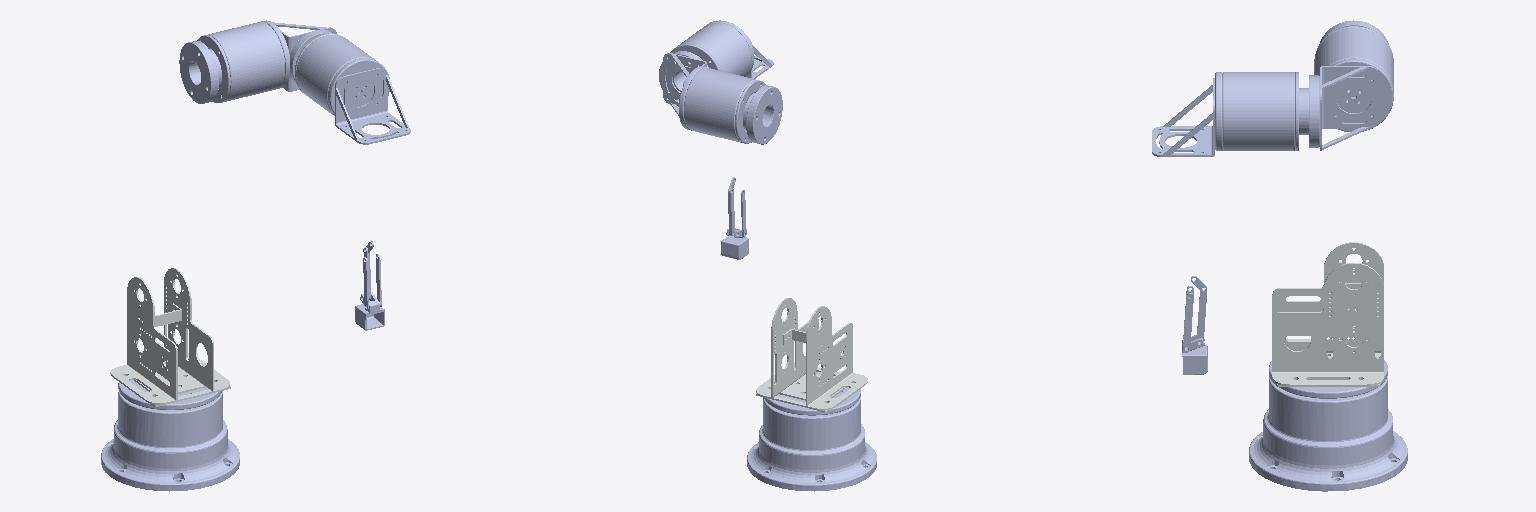
robot.urdf — rover_arm_urdf_pkg:
<?xml version="1.0" encoding="utf-8"?>
<!-- This URDF was automatically created by SolidWorks to URDF Exporter! Originally created by [author] ([email redacted]) 
     Commit Version: 1.6.0-4-g7f85cfe  Build Version: 1.6.7995.38578
     For more information, please see http://wiki.ros.org/sw_urdf_exporter -->
<robot
  name="rover_arm_urdf_pkg">
  <link name="world"/>
  <joint name="base_joint" type="fixed">
      <parent link="world"/>
      <child link="base_link"/>
      <origin rpy="0 0 0" xyz="0.0 0.0 0.00001"/>
  </joint>
  <link
    name="base_link">
    <inertial>
      <origin
        xyz="-2.2814E-16 7.12E-17 0.064877"
        rpy="0 0 0" />
      <mass
        value="2.1128" />
      <inertia
        ixx="0.0074562"
        ixy="1.72E-06"
        ixz="-1.7996E-17"
        iyy="0.0074583"
        iyz="-1.4355E-17"
        izz="0.010214" />
    </inertial>
    <visual>
      <origin
        xyz="0 0 0"
        rpy="0 0 0" />
      <geometry>
        <mesh
          filename="package://rover_arm_urdf_pkg/meshes/base_link.STL" />
      </geometry>
      <material
        name="">
        <color
          rgba="0.79216 0.81961 0.93333 1" />
      </material>
    </visual>
    <collision>
      <origin
        xyz="0 0 0"
        rpy="0 0 0" />
      <geometry>
        <mesh
          filename="package://rover_arm_urdf_pkg/meshes/base_link.STL" />
      </geometry>
    </collision>
  </link>
  <link
    name="link_1">
    <inertial>
      <origin
        xyz="-0.00064135 0.0059228 0.051415"
        rpy="0 0 0" />
      <mass
        value="0.49072" />
      <inertia
        ixx="0.001755"
        ixy="3.1435E-07"
        ixz="7.1879E-07"
        iyy="0.0010881"
        iyz="-0.00019759"
        izz="0.001162" />
    </inertial>
    <visual>
      <origin
        xyz="0 0 0"
        rpy="0 0 0" />
      <geometry>
        <mesh
          filename="package://rover_arm_urdf_pkg/meshes/link_1.STL" />
      </geometry>
      <material
        name="">
        <color
          rgba="0.89804 0.91765 0.92941 1" />
      </material>
    </visual>
    <collision>
      <origin
        xyz="0 0 0"
        rpy="0 0 0" />
      <geometry>
        <mesh
          filename="package://rover_arm_urdf_pkg/meshes/link_1.STL" />
      </geometry>
    </collision>
  </link>
  <joint
    name="joint_1"
    type="revolute">
    <origin
      xyz="0 0 0.133"
      rpy="0 0 0" />
    <parent
      link="base_link" />
    <child
      link="link_1" />
    <axis
      xyz="0 0 1" />
    <limit
      lower="-3.142"
      upper="3.142"
      effort="100"
      velocity="2" />
  </joint>
  <link
    name="link_2">
    <inertial>
      <origin
        xyz="-3.148E-06 0.2843 0.0099169"
        rpy="0 0 0" />
      <mass
        value="1.1101" />
      <inertia
        ixx="0.0026516"
        ixy="-1.2212E-07"
        ixz="-1.1353E-07"
        iyy="0.0012227"
        iyz="-0.00020306"
        izz="0.0025953" />
    </inertial>
    <visual>
      <origin
        xyz="0 0 0"
        rpy="0 0 0" />
      <geometry>
        <mesh
          filename="package://rover_arm_urdf_pkg/meshes/link_2.STL" />
      </geometry>
      <material
        name="">
        <color
          rgba="0.79216 0.81961 0.93333 1" />
      </material>
    </visual>
    <collision>
      <origin
        xyz="0 0 0"
        rpy="0 0 0" />
      <geometry>
        <mesh
          filename="package://rover_arm_urdf_pkg/meshes/link_2.STL" />
      </geometry>
    </collision>
  </link>
  <joint
    name="joint_2"
    type="revolute">
    <origin
      xyz="0 0.0355 0.1519"
      rpy="1.5708 0 1.5708" />
    <parent
      link="link_1" />
    <child
      link="link_2" />
    <axis
      xyz="0 0 1" />
    <limit
      lower="-3.142"
      upper="3.142"
      effort="100"
      velocity="2" />
  </joint>
  <link
    name="link_3">
    <inertial>
      <origin
        xyz="4.4409E-16 -0.0011125 -0.0037525"
        rpy="0 0 0" />
      <mass
        value="0.83444" />
      <inertia
        ixx="0.0013519"
        ixy="9.0993E-07"
        ixz="-3.0376E-20"
        iyy="0.0013665"
        iyz="1.2183E-05"
        izz="0.0015146" />
    </inertial>
    <visual>
      <origin
        xyz="0 0 0"
        rpy="0 0 0" />
      <geometry>
        <mesh
          filename="package://rover_arm_urdf_pkg/meshes/link_3.STL" />
      </geometry>
      <material
        name="">
        <color
          rgba="0.79216 0.81961 0.93333 1" />
      </material>
    </visual>
    <collision>
      <origin
        xyz="0 0 0"
        rpy="0 0 0" />
      <geometry>
        <mesh
          filename="package://rover_arm_urdf_pkg/meshes/link_3.STL" />
      </geometry>
    </collision>
  </link>
  <joint
    name="joint_3"
    type="revolute">
    <origin
      xyz="0 0.363 0.149"
      rpy="0 0 -1.5708" />
    <parent
      link="link_2" />
    <child
      link="link_3" />
    <axis
      xyz="0 0 -1" />
    <limit
      lower="-3.142"
      upper="3.142"
      effort="50"
      velocity="4" />
  </joint>
  <link
    name="link_4">
    <inertial>
      <origin
        xyz="-0.0011125 2.387E-15 -0.0037525"
        rpy="0 0 0" />
      <mass
        value="0.83444" />
      <inertia
        ixx="0.0013665"
        ixy="-9.0993E-07"
        ixz="1.2183E-05"
        iyy="0.0013519"
        iyz="8.7468E-20"
        izz="0.0015146" />
    </inertial>
    <visual>
      <origin
        xyz="0 0 0"
        rpy="0 0 0" />
      <geometry>
        <mesh
          filename="package://rover_arm_urdf_pkg/meshes/link_4.STL" />
      </geometry>
      <material
        name="">
        <color
          rgba="0.79216 0.81961 0.93333 1" />
      </material>
    </visual>
    <collision>
      <origin
        xyz="0 0 0"
        rpy="0 0 0" />
      <geometry>
        <mesh
          filename="package://rover_arm_urdf_pkg/meshes/link_4.STL" />
      </geometry>
    </collision>
  </link>
  <joint
    name="joint_4"
    type="revolute">
    <origin
      xyz="0 -0.13161 0.10761"
      rpy="-1.5708 0 -3.1416" />
    <parent
      link="link_3" />
    <child
      link="link_4" />
    <axis
      xyz="0 0 -1" />
    <limit
      lower="-3.142"
      upper="3.142"
      effort="50"
      velocity="4" />
  </joint>
  <link
    name="link_5">
    <inertial>
      <origin
        xyz="-0.0056897 0.00022371 0.030611"
        rpy="0 0 0" />
      <mass
        value="1.0836" />
      <inertia
        ixx="0.001469"
        ixy="-1.5038E-06"
        ixz="-7.5505E-06"
        iyy="0.0014595"
        iyz="1.0158E-06"
        izz="0.0020478" />
    </inertial>
    <visual>
      <origin
        xyz="0 0 0"
        rpy="0 0 0" />
      <geometry>
        <mesh
          filename="package://rover_arm_urdf_pkg/meshes/link_5.STL" />
      </geometry>
      <material
        name="">
        <color
          rgba="0.79216 0.81961 0.93333 1" />
      </material>
    </visual>
    <collision>
      <origin
        xyz="0 0 0"
        rpy="0 0 0" />
      <geometry>
        <mesh
          filename="package://rover_arm_urdf_pkg/meshes/link_5.STL" />
      </geometry>
    </collision>
  </link>
  <joint
    name="joint_5"
    type="revolute">
    <origin
      xyz="-0.11211 0 0.10761"
      rpy="1.5708 0 -1.5708" />
    <parent
      link="link_4" />
    <child
      link="link_5" />
    <axis
      xyz="0 0 -1" />
    <limit
      lower="-3.142"
      upper="3.142"
      effort="50"
      velocity="4" />
  </joint>
  <link
    name="Right_ee">
    <inertial>
      <origin
        xyz="-0.011163 -0.080593 0.00035566"
        rpy="0 0 0" />
      <mass
        value="0.028855" />
      <inertia
        ixx="1.2417E-05"
        ixy="3.9813E-07"
        ixz="-3.4576E-12"
        iyy="4.4005E-06"
        iyz="7.4412E-12"
        izz="1.2567E-05" />
    </inertial>
    <visual>
      <origin
        xyz="0 0 0"
        rpy="0 0 0" />
      <geometry>
        <mesh
          filename="package://rover_arm_urdf_pkg/meshes/Right_ee.STL" />
      </geometry>
      <material
        name="">
        <color
          rgba="0.79216 0.81961 0.93333 1" />
      </material>
    </visual>
    <collision>
      <origin
        xyz="0 0 0"
        rpy="0 0 0" />
      <geometry>
        <mesh
          filename="package://rover_arm_urdf_pkg/meshes/Right_ee.STL" />
      </geometry>
    <collision name="Right_ee_collision" /> </collision>
  </link>
  <joint
    name="joint_ree"
    type="revolute">
    <origin
      xyz="0 -0.031487 0.15715"
      rpy="-1.5708 0 -1.5708" />
    <parent
      link="link_5" />
    <child
      link="Right_ee" />
    <axis
      xyz="0 0 1" />
    <limit
      lower="0"
      upper="0.7"
      effort="15"
      velocity="6" />
  </joint>
  <link
    name="Left_ee">
    <inertial>
      <origin
        xyz="0.011163 -0.080593 0.00030569"
        rpy="0 0 0" />
      <mass
        value="0.028855" />
      <inertia
        ixx="1.2417E-05"
        ixy="-3.9813E-07"
        ixz="-3.4576E-12"
        iyy="4.4005E-06"
        iyz="-7.4412E-12"
        izz="1.2567E-05" />
    </inertial>
    <visual>
      <origin
        xyz="0 0 0"
        rpy="0 0 0" />
      <geometry>
        <mesh
          filename="package://rover_arm_urdf_pkg/meshes/Left_ee.STL" />
      </geometry>
      <material
        name="">
        <color
          rgba="0.79216 0.81961 0.93333 1" />
      </material>
    </visual>
    <collision>
      <origin
        xyz="0 0 0"
        rpy="0 0 0" />
      <geometry>
        <mesh
          filename="package://rover_arm_urdf_pkg/meshes/Left_ee.STL" />
      </geometry>
    <collision name="Left_ee_collision" /> </collision>
  </link>
  <joint
    name="joint_lee"
    type="revolute">
    <origin
      xyz="0 0.031487 0.15715"
      rpy="-1.5708 0 -1.5708" />
    <parent
      link="link_5" />
    <child
      link="Left_ee" />
    <axis
      xyz="0 0 1" />
    <limit
      lower="-0.7"
      upper="0"
      effort="15"
      velocity="6" />
  </joint>

  <transmission name="link_1_trans">
        <type>transmission_interface/SimpleTransmission</type>
        <joint name="joint_1">
              <hardwareInterface>hardware_interface/PositionJointInterface</hardwareInterface> 
        </joint>
        <actuator name="link_1_motor">
              <hardwareInterface>hardware_interface/PositionJointInterface</hardwareInterface> 
              <mechanicalReduction>1</mechanicalReduction>
        </actuator>
  </transmission>

  <transmission name="link_2_trans">
        <type>transmission_interface/SimpleTransmission</type>
        <joint name="joint_2">
              <hardwareInterface>hardware_interface/PositionJointInterface</hardwareInterface> 
        </joint>
        <actuator name="link_2_motor">
              <hardwareInterface>hardware_interface/PositionJointInterface</hardwareInterface> 
              <mechanicalReduction>1</mechanicalReduction>
        </actuator>
  </transmission>

  <transmission name="link_3_trans">
        <type>transmission_interface/SimpleTransmission</type>
        <joint name="joint_3">
              <hardwareInterface>hardware_interface/PositionJointInterface</hardwareInterface> 
        </joint>
        <actuator name="link_3_motor">
              <hardwareInterface>hardware_interface/PositionJointInterface</hardwareInterface> 
              <mechanicalReduction>1</mechanicalReduction>
        </actuator>
  </transmission>

  <transmission name="link_4_trans">
        <type>transmission_interface/SimpleTransmission</type>
        <joint name="joint_4">
              <hardwareInterface>hardware_interface/PositionJointInterface</hardwareInterface> 
        </joint>
        <actuator name="link_4_motor">
              <hardwareInterface>hardware_interface/PositionJointInterface</hardwareInterface> 
              <mechanicalReduction>1</mechanicalReduction>
        </actuator>
  </transmission>

  <transmission name="link_5_trans">
        <type>transmission_interface/SimpleTransmission</type>
        <joint name="joint_5">
              <hardwareInterface>hardware_interface/PositionJointInterface</hardwareInterface> 
        </joint>
        <actuator name="link_5_motor">
              <hardwareInterface>hardware_interface/PositionJointInterface</hardwareInterface> 
              <mechanicalReduction>1</mechanicalReduction>
        </actuator>
  </transmission>

  <transmission name="Right_ee_trans">
        <type>transmission_interface/SimpleTransmission</type>
        <joint name="joint_ree">
              <hardwareInterface>hardware_interface/PositionJointInterface</hardwareInterface> 
        </joint>
        <actuator name="Right_ee_motor">
              <hardwareInterface>hardware_interface/PositionJointInterface</hardwareInterface> 
              <mechanicalReduction>1</mechanicalReduction>
        </actuator>
  </transmission>
   
  <transmission name="Left_ee_trans">
        <type>transmission_interface/SimpleTransmission</type>
        <joint name="joint_lee">
              <hardwareInterface>hardware_interface/PositionJointInterface</hardwareInterface> 
        </joint>
        <actuator name="Left_ee_motor">
              <hardwareInterface>hardware_interface/PositionJointInterface</hardwareInterface> 
              <mechanicalReduction>1</mechanicalReduction>
        </actuator>
  </transmission>

  <gazebo>
      <plugin name="control" filename="libgazebo_ros_control.so">
          <robotNamespace>/</robotNamespace>
      </plugin>
  </gazebo>

  <gazebo reference="link_1">
      <selfCollide>true</selfCollide>
  </gazebo>

  <gazebo reference="link_2">
      <selfCollide>true</selfCollide>
  </gazebo>

  <gazebo reference="link_3">
      <selfCollide>true</selfCollide>
  </gazebo>

  <gazebo reference="link_4">
      <selfCollide>true</selfCollide>
  </gazebo>

  <gazebo reference="link_5">
      <selfCollide>true</selfCollide>
  </gazebo>

  <gazebo reference="Right_ee">
      <selfCollide>true</selfCollide>
  </gazebo>
  
  <gazebo reference="Left_ee">
      <selfCollide>true</selfCollide>
  </gazebo>

  <gazebo>
    <plugin name="gazebo_grasp_fix" filename="libgazebo_grasp_fix.so">
      <arm>
        <arm_name>/</arm_name>
        <palm_link>link_5</palm_link>
        <gripper_link>Right_ee</gripper_link>
        <gripper_link>Left_ee</gripper_link>
      </arm>
      <forces_angle_tolerance>90</forces_angle_tolerance>
      <update_rate>10</update_rate>
      <grip_count_threshold>3</grip_count_threshold>
      <max_grip_count>10</max_grip_count>
      <release_tolerance>0.004</release_tolerance>
      <disable_collisions_on_attach>true</disable_collisions_on_attach>
      <contact_topic>__default_topic__</contact_topic>
    </plugin> 
  </gazebo>
  
</robot>

--- Render facts (derived) ---
The picture shows the robot from 3 angles, left to right: view 1: azimuth 30°, elevation 25°; view 2: azimuth 150°, elevation 25°; view 3: azimuth 270°, elevation 25°; orthographic projection.
Robot: rover_arm_urdf_pkg — 9 links, 8 joints (7 revolute, 1 fixed); root link world; default pose: all joints at 0.
Visible links, largest first — view 1: base_link, link_1, link_4, link_3, Right_ee; view 2: base_link, link_1, link_3, link_4, Right_ee; view 3: base_link, link_1, link_4, link_3, Right_ee.
Boxes of the visible links, x1,y1,x2,y2 form: base_link: [101, 363, 239, 491]; link_1: [110, 268, 230, 406]; link_4: [290, 30, 410, 144]; link_3: [179, 20, 336, 103]; Right_ee: [355, 241, 384, 330]; base_link: [747, 372, 876, 491]; link_1: [756, 298, 867, 411]; link_3: [663, 53, 782, 144]; link_4: [659, 20, 773, 101]; Right_ee: [721, 177, 748, 259]; base_link: [1249, 360, 1407, 491]; link_1: [1272, 242, 1383, 386]; link_4: [1152, 72, 1319, 156]; link_3: [1314, 20, 1393, 150]; Right_ee: [1182, 276, 1207, 374].
Bounding box of the posed robot: 0.4216 × 0.3537 × 0.7029 m (x, y, z).
Meshes: 8 distinct files referenced, 5 mesh visuals loaded (5 binary STL); not drawn: 3 (reference not matched to a file when rendering).
